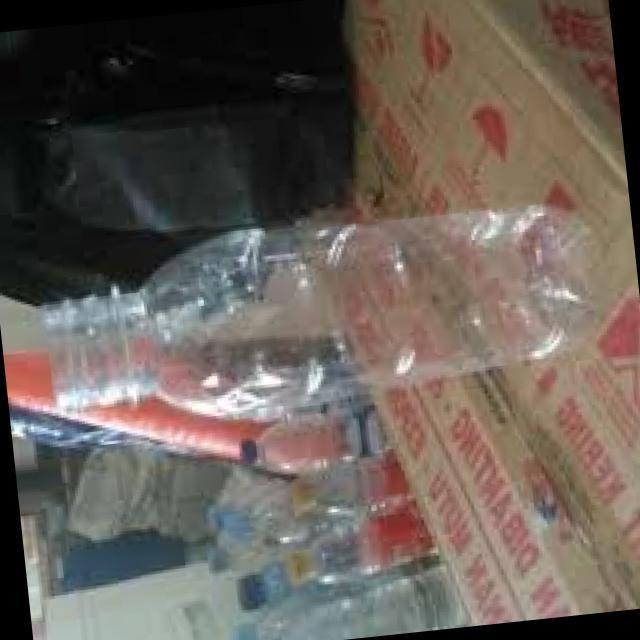good: (28, 198, 593, 462)
